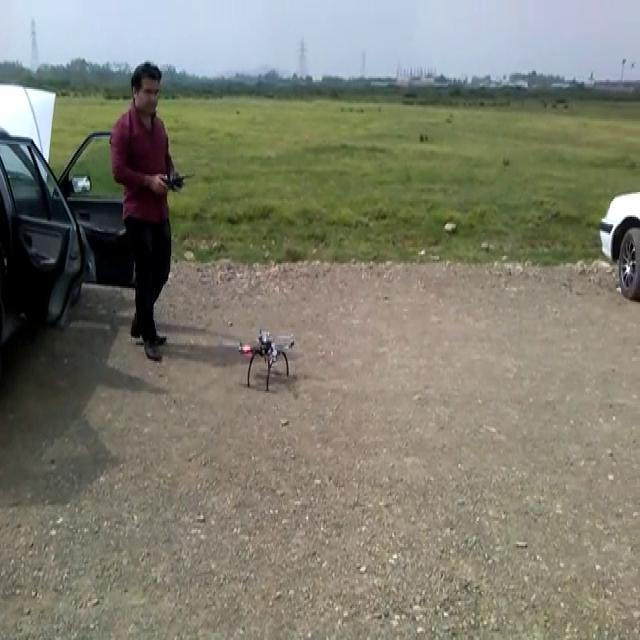drone: (230, 326, 298, 390)
